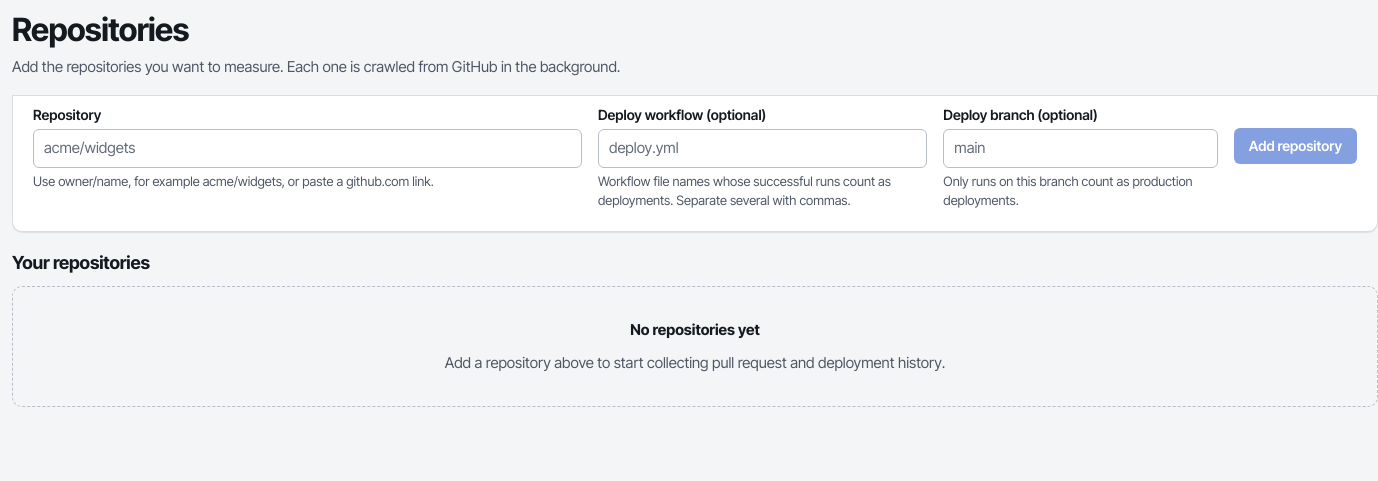
Scenario: ReposPage › posts the repository, workflows and branch, and shows the API error on a 404
expect the text "No repositories yet" is shown: met, box [630, 319, 760, 342]
In the field labelled "Repository": (308, 148) [33, 129, 582, 168], type "acme/gadgets"
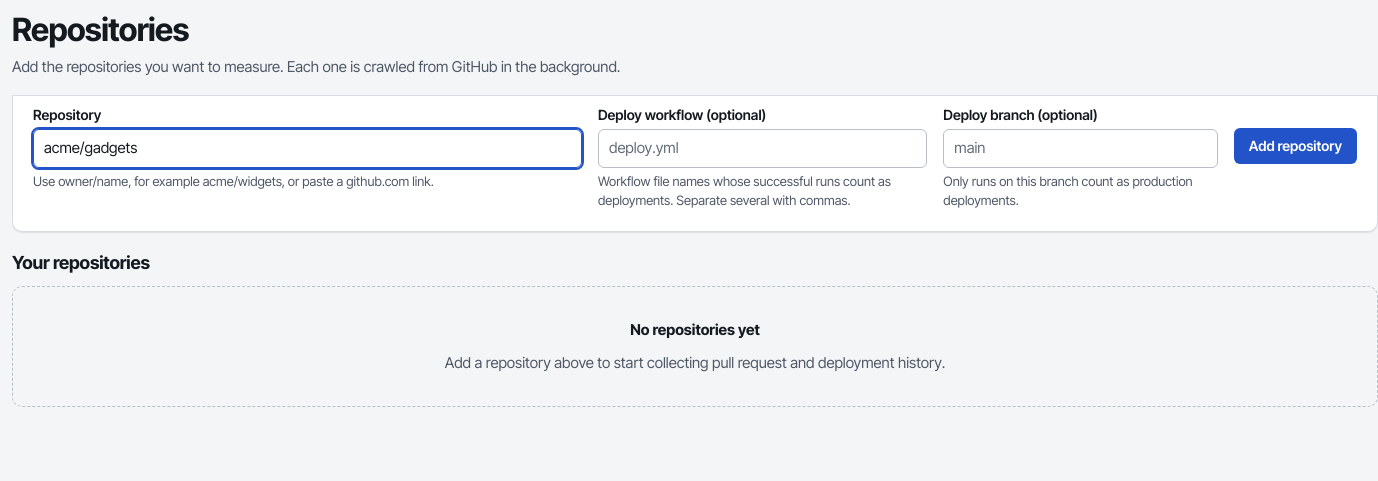
In the field labelled "Deploy workflow (optional)": (763, 148) [598, 129, 927, 168], type "deploy.yml, release.yml"
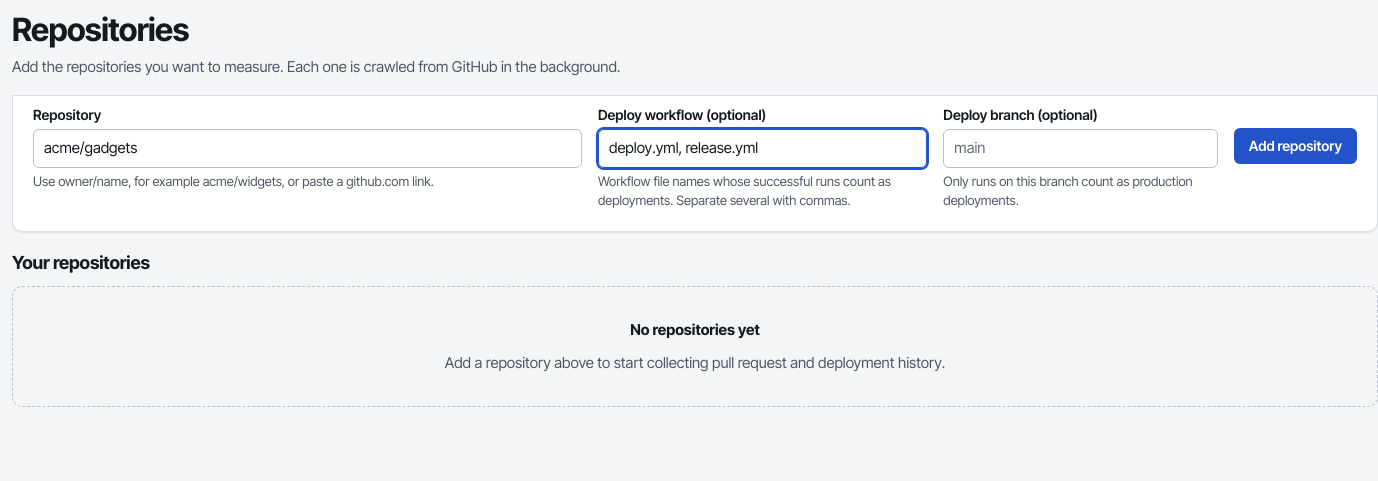
In the field labelled "Deploy branch (optional)": (1081, 148) [943, 129, 1218, 168], type "trunk"
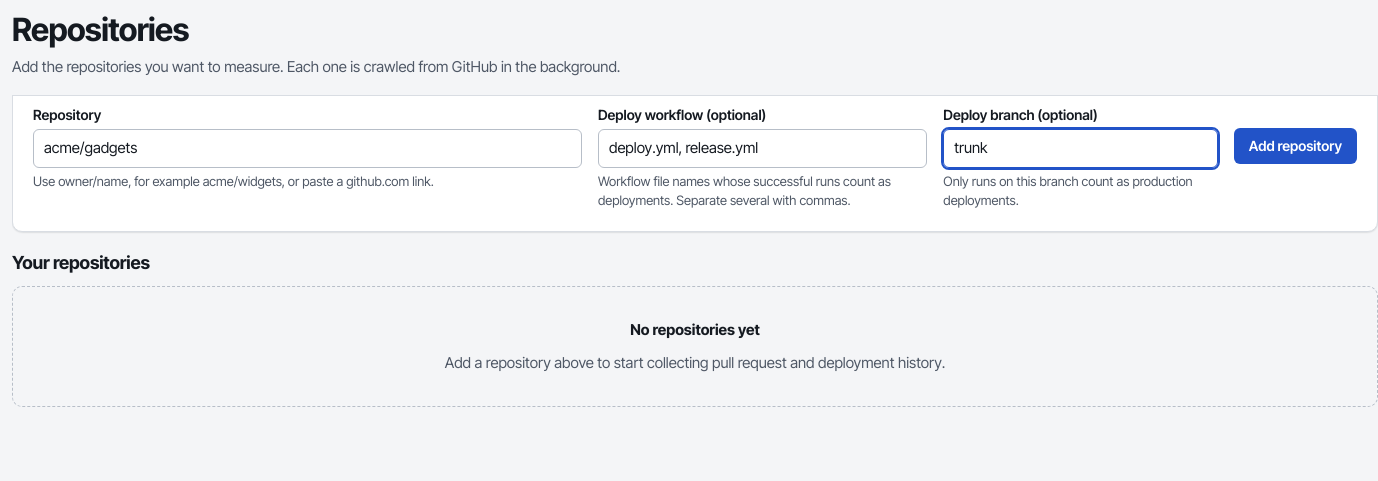
Click the button "Add repository": (1295, 146) [1234, 128, 1357, 164]
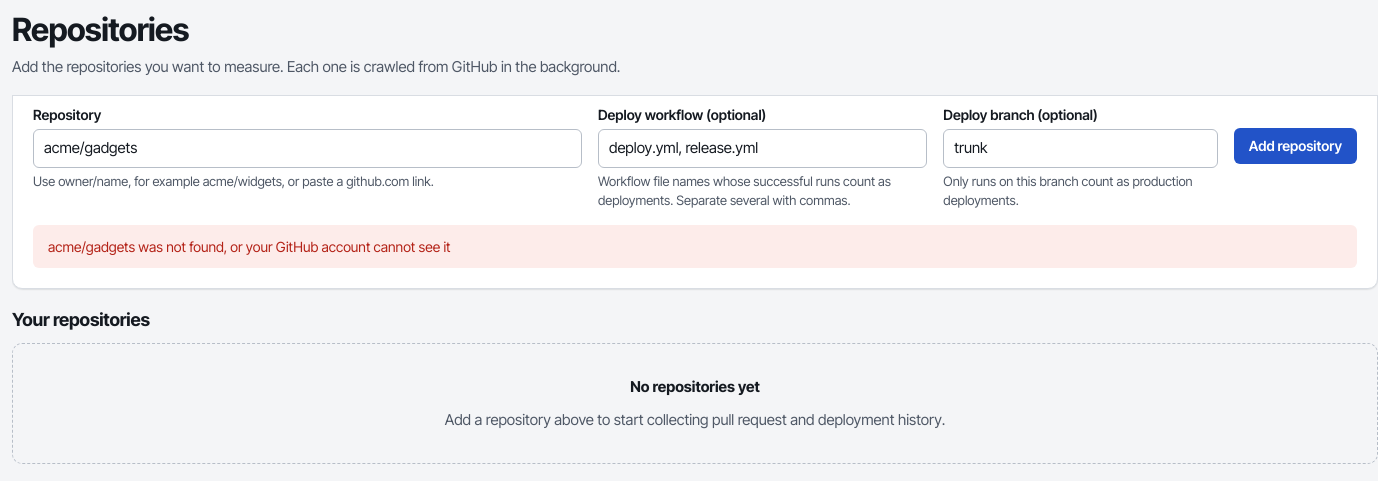
expect the message reads "acme/gadgets was not found, or your GitHub account cannot see it": met, box [48, 238, 450, 254]
